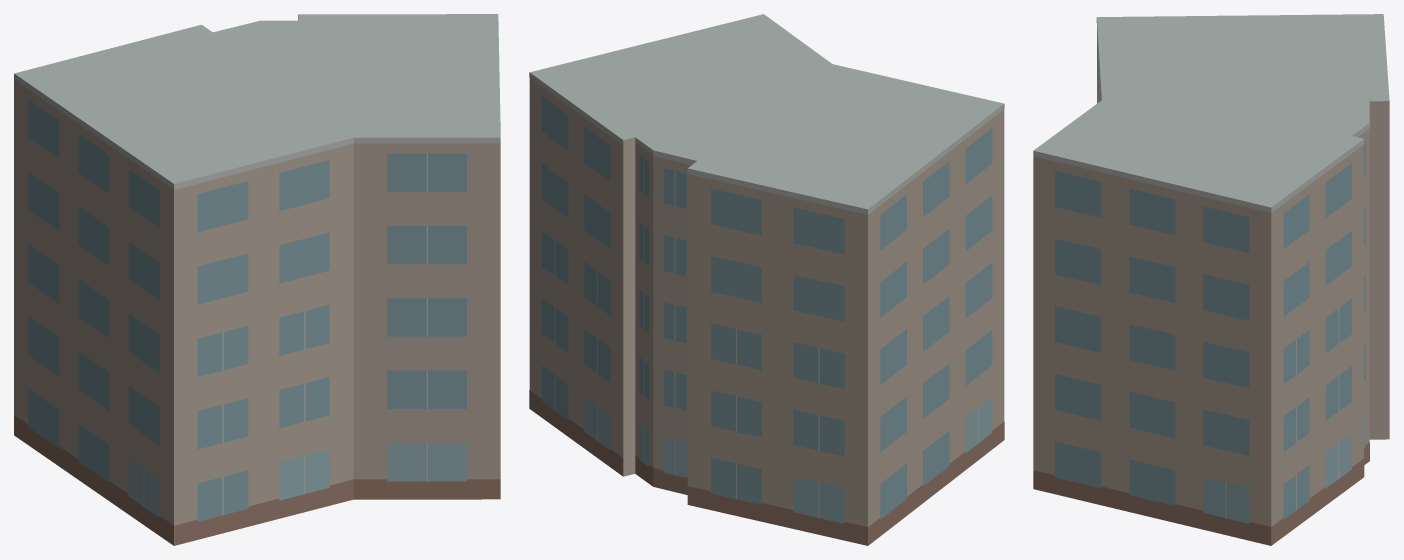
The model's file is survey-upis-32929059.glb.
3 views of the same model, side by side, from view 1: azimuth 30°, elevation 25°; view 2: azimuth 150°, elevation 25°; view 3: azimuth 270°, elevation 25° (orthographic). The views are drawn at different scales.
Parts seen in each view (by area): view 1: survey-upis-32929059.tmp; view 2: survey-upis-32929059.tmp; view 3: survey-upis-32929059.tmp.
Boxes of the visible parts, bbox=[...] form: survey-upis-32929059.tmp: bbox=[14, 14, 500, 545]; survey-upis-32929059.tmp: bbox=[529, 14, 1004, 545]; survey-upis-32929059.tmp: bbox=[1033, 14, 1389, 545].
Bounding box in the file's own units: 18.29 × 14.9 × 14.23.
